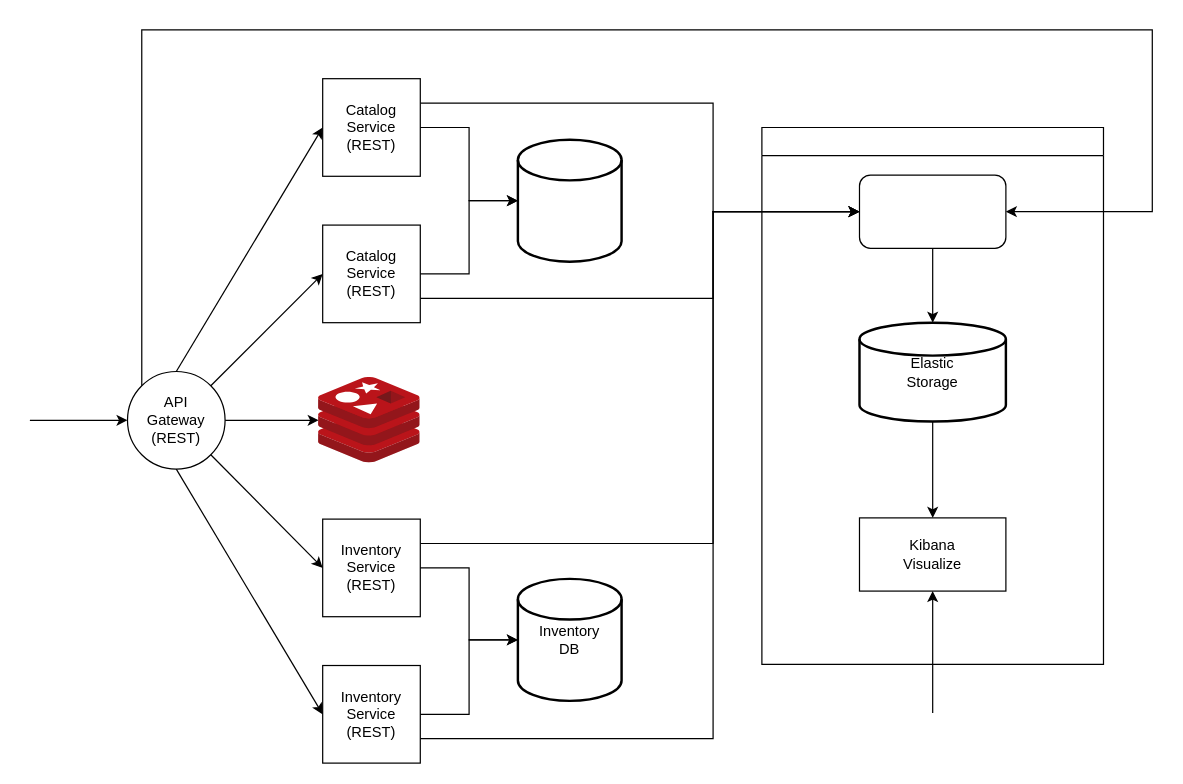
Image size: 1183x784. Some labels were removed from this diagram. The box of each missing label's shape, as (x1, y1, x2, y2) in pixels:
Catalog DB: (516, 138, 622, 262)
ELK Stack: (761, 126, 1103, 664)
Logstash Filter & Customize: (858, 174, 1006, 248)
REDIS Cache: (318, 377, 420, 462)
